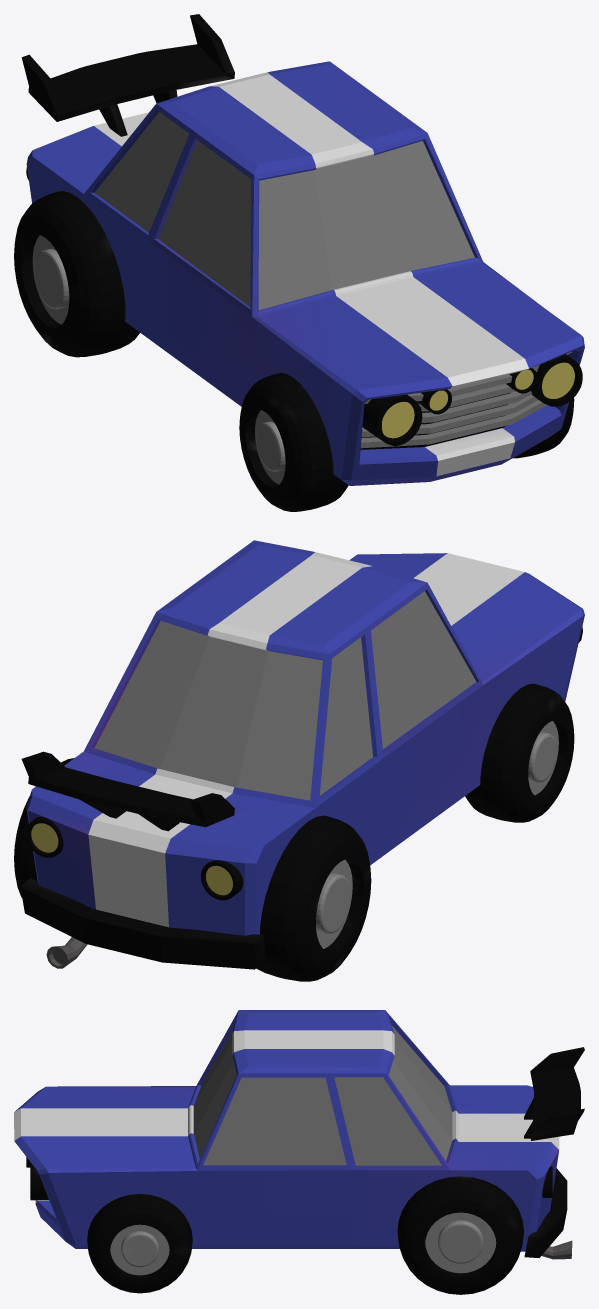
Rendered from CarroAzul.fbx.
3 views of the same model, one above another, from view 1: azimuth 30°, elevation 25°; view 2: azimuth 150°, elevation 25°; view 3: azimuth 270°, elevation 25° (orthographic). The views are drawn at different scales.
Parts seen in each view (by area): view 1: Carro.Azul; view 2: Carro.Azul; view 3: Carro.Azul.
Part boxes in pixels (left/top/right/bottom): Carro.Azul: left=14, top=14, right=584, bottom=511; Carro.Azul: left=14, top=540, right=584, bottom=981; Carro.Azul: left=14, top=1010, right=584, bottom=1294.
Size of the model in its own units: 2.54 by 2.3 by 5.7.
